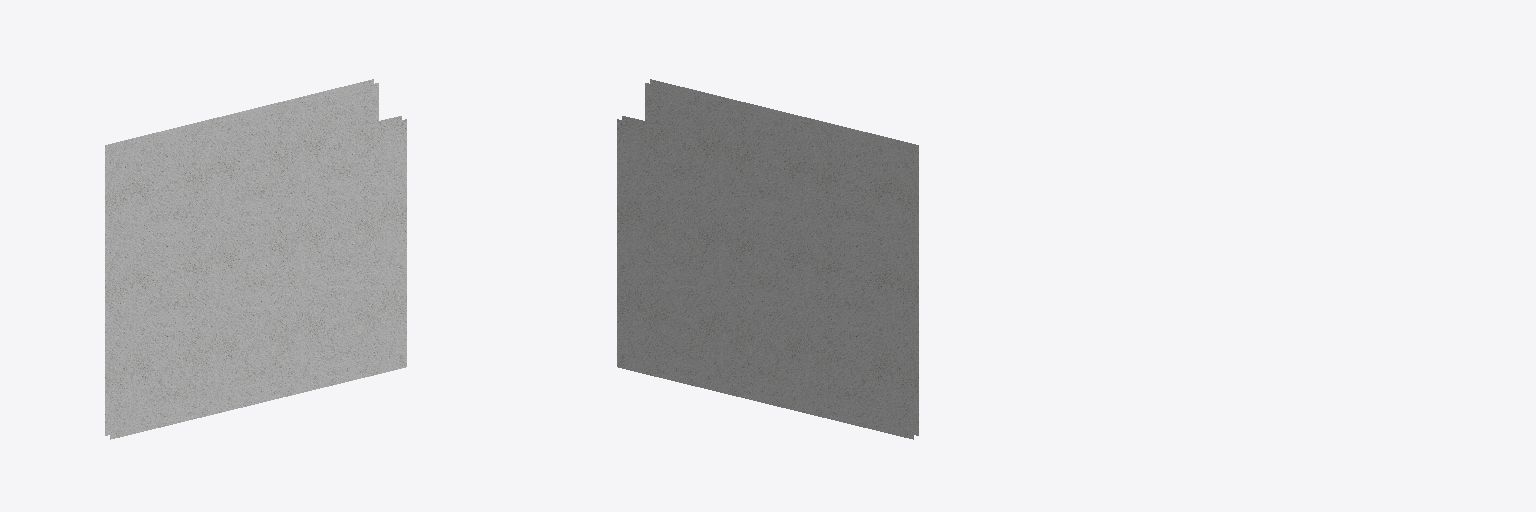
3 renders of one model, left to right at view 1: azimuth 30°, elevation 25°; view 2: azimuth 150°, elevation 25°; view 3: azimuth 270°, elevation 25°, orthographic.
Visible parts, largest first — view 1: floor_2; view 2: floor_2; view 3: none.
Boxes of the visible parts, <box> form: floor_2: <box>105,79,406,439</box>; floor_2: <box>617,79,918,439</box>.
Size of the model in its own units: 3.46 by 3.24 by 0.1.
Materials: 1 (1 with a texture image).